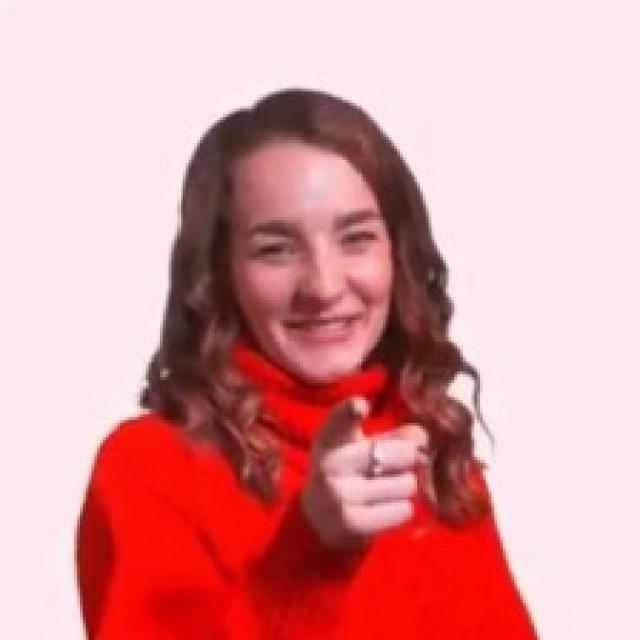you: (299, 395, 431, 541)
